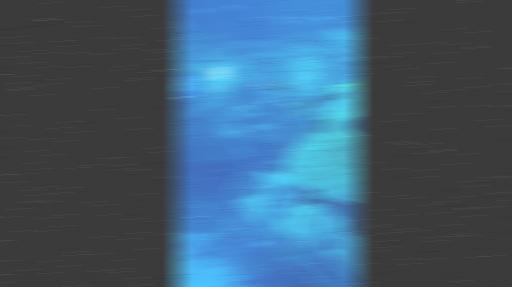Fish: (293, 95, 329, 116), (325, 80, 360, 99), (299, 187, 324, 206), (313, 113, 330, 133), (268, 81, 293, 94), (248, 185, 275, 195), (278, 247, 299, 259), (275, 141, 292, 151), (274, 12, 287, 23), (327, 238, 338, 249), (193, 8, 210, 15), (183, 109, 194, 118), (224, 4, 239, 10), (187, 44, 198, 52), (281, 102, 298, 107), (269, 160, 286, 164), (282, 20, 291, 25), (286, 71, 292, 78), (316, 8, 327, 11), (213, 34, 219, 38)
